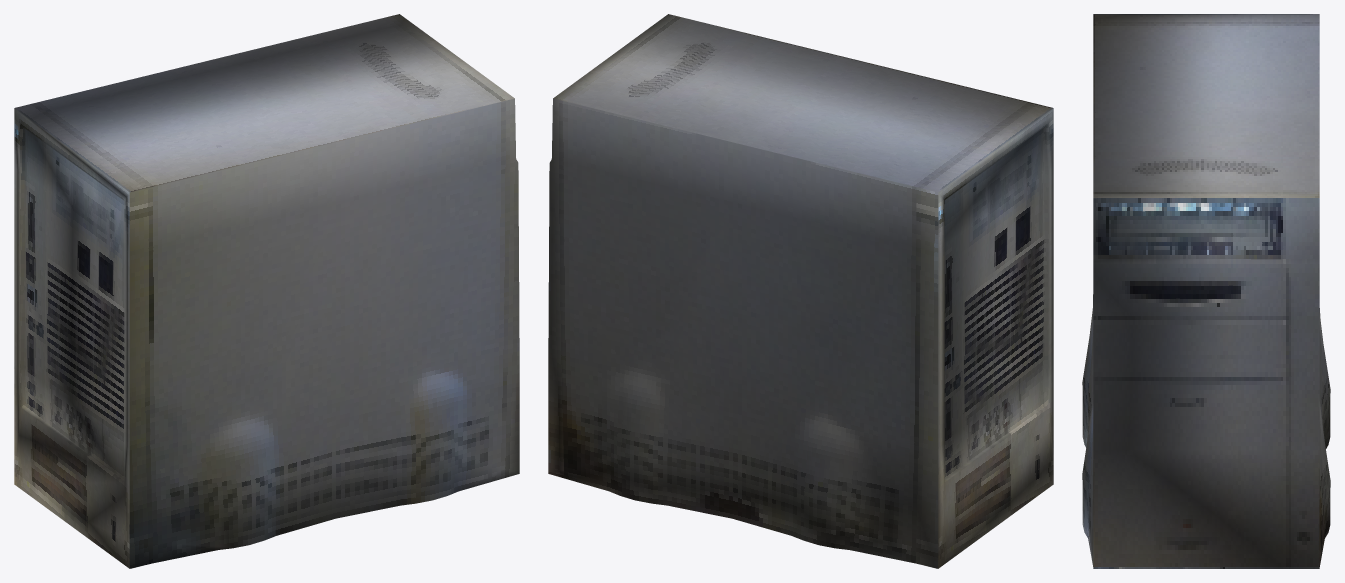
Rendered from powermac8500.glb.
3 views of the same model, side by side, from view 1: azimuth 30°, elevation 25°; view 2: azimuth 150°, elevation 25°; view 3: azimuth 270°, elevation 25° (orthographic). The views are drawn at different scales.
Parts seen in each view (by area): view 1: maen; view 2: maen; view 3: maen.
Boxes of the visible parts, <box> form: maen: <box>14,14,519,568</box>; maen: <box>548,14,1053,568</box>; maen: <box>1082,14,1330,568</box>.
Size of the model in its own units: 0.78 by 0.72 by 0.439.
1 material, 1 textured.
